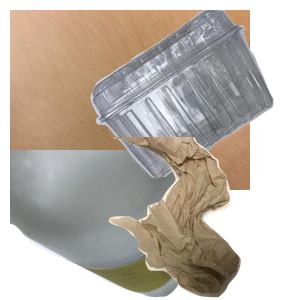cardboard: (10, 10, 250, 190)
glass: (10, 150, 190, 300)
plastic: (88, 10, 300, 180)
trash: (103, 137, 300, 300)
